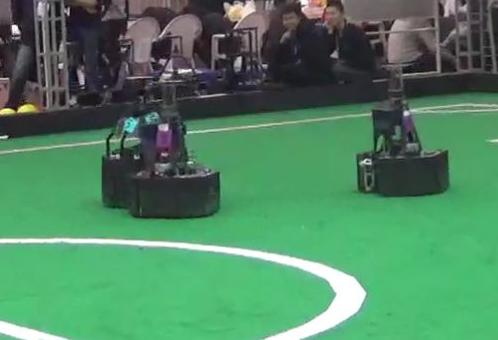robot: (107, 72, 229, 222), (352, 54, 463, 204)
